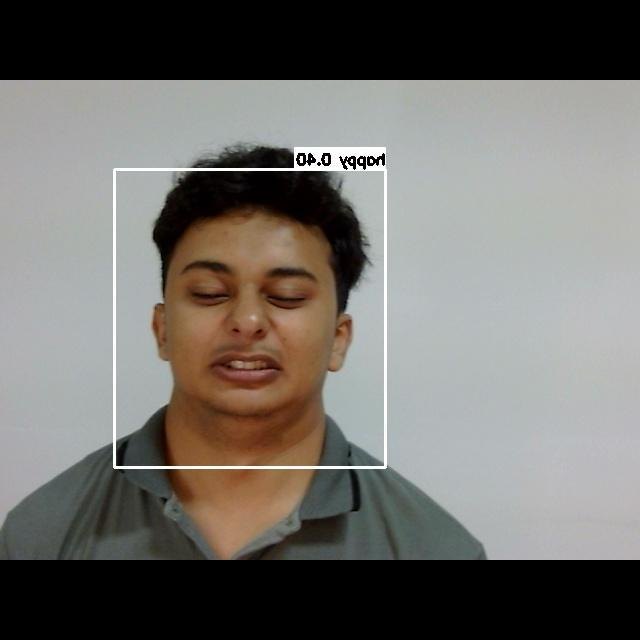Disgust: (152, 237, 359, 404)
